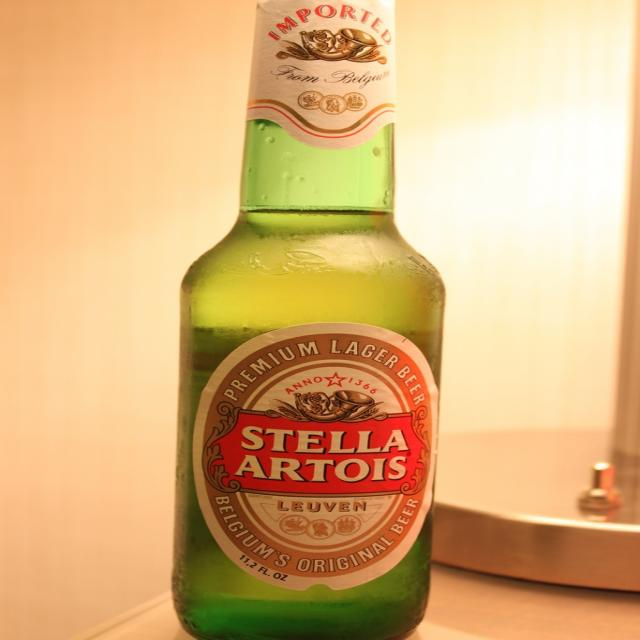stellaartois: (201, 336, 433, 582)
